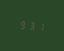nine: (18, 18, 25, 30)
one: (35, 20, 42, 31)
three: (27, 19, 34, 31)
